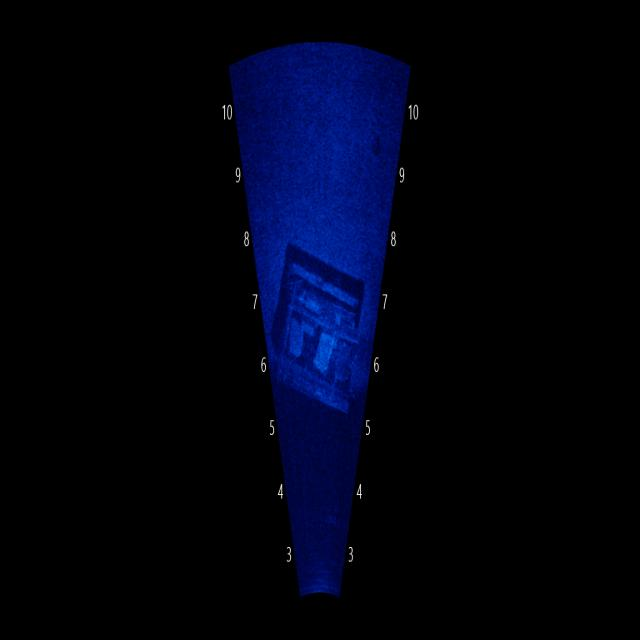square: (265, 230, 374, 424)
